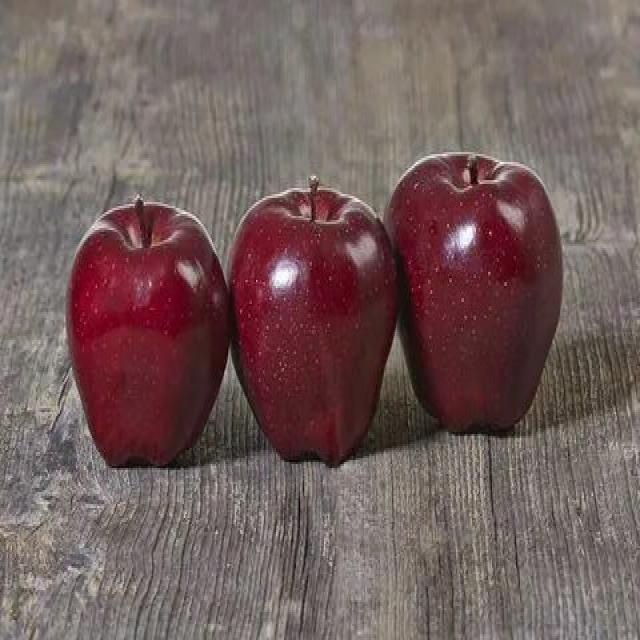Fresh Apple: (368, 142, 578, 428), (32, 194, 243, 474), (217, 192, 410, 475)
